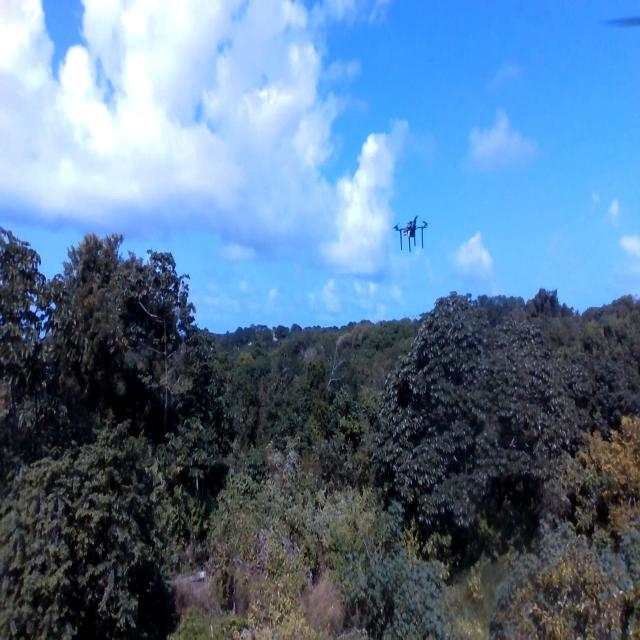-uav-: (385, 194, 441, 268)
